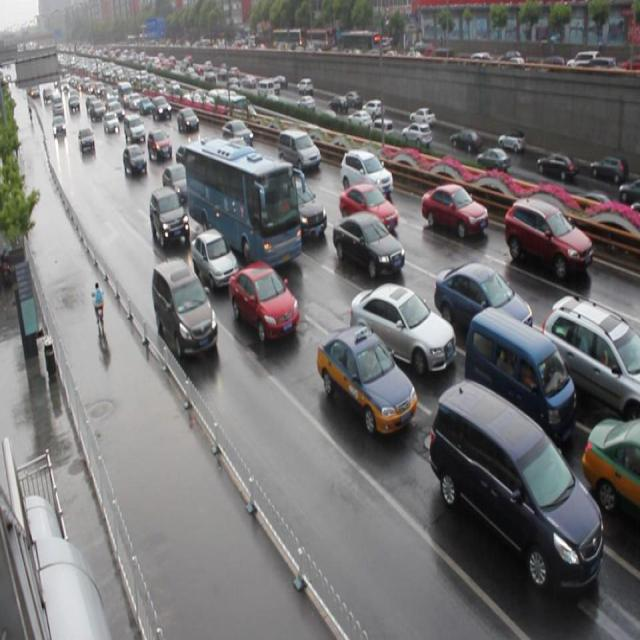car: (540, 294, 640, 422), (317, 326, 416, 435), (350, 282, 456, 378), (434, 261, 532, 340), (503, 196, 592, 280), (580, 415, 640, 522), (227, 260, 298, 341), (332, 210, 404, 277), (420, 182, 487, 239), (275, 177, 329, 240), (339, 181, 397, 235), (190, 227, 238, 290), (339, 148, 392, 200), (149, 185, 190, 245), (162, 162, 190, 200), (222, 118, 253, 150)
truck: (432, 380, 602, 590), (464, 306, 572, 443), (152, 257, 219, 358), (277, 128, 321, 172)
van: (186, 136, 302, 268)
